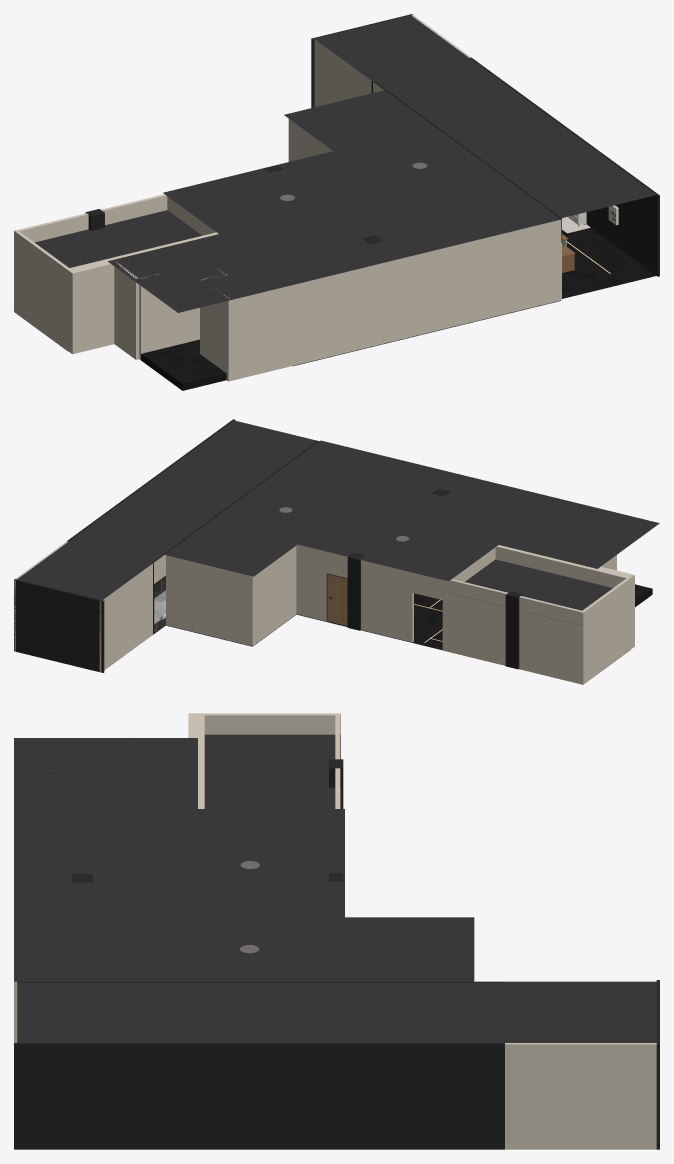
The model's file is office-mvp1-webp.glb.
The picture shows the model from 3 angles, top to bottom: view 1: azimuth 30°, elevation 25°; view 2: azimuth 150°, elevation 25°; view 3: azimuth 270°, elevation 25°; orthographic projection. The views are drawn at different scales.
Visible parts, largest first — view 1: MG_Office_M_Ceiling, MG_Office_M_SM_Wall_Cream, MG_WestRoom_M_SM_Wall_Cream, MG_MeetingWest_M_Ceiling, MG_Office_M_Floor, MG_Lounge_M_Wall, MG_Function_M_SM_Wall_Cream, MG_WestRoom_M_Floor, MG_Lounge_M_SM_Wall_Cream, MG_MeetingWest_M_SM_Wall_Cream; view 2: MG_Office_M_Ceiling, MG_Office_M_SM_Wall_Cream, MG_Function_M_SM_Wall_Dark, MG_Function_M_SM_Wall_Cream, MG_MeetingWest_M_Ceiling, MG_Office_M_Floor, MG_Office_M_Wall, MG_MeetingWest_M_Wall, MG_Office_ODesk_Oak, MG_Lounge_M_SM_Wall_Cream, MG_MeetingWest_M_SM_Wall_Cream, MG_Lounge_M_Glass (+1 smaller); view 3: MG_Office_M_Ceiling, MG_Lounge_M_Wall, MG_Function_M_SM_Wall_Cream, MG_MeetingWest_M_Ceiling, MG_Office_M_SM_Wall_Cream, MG_Lounge_M_SM_Wall_Cream, MG_Function_M_SM_Wall_Dark.
Boxes of the visible parts, box(x1,y1,x2,y2) form: MG_Office_M_Ceiling: box(108, 15, 655, 312); MG_Office_M_SM_Wall_Cream: box(14, 119, 561, 381); MG_WestRoom_M_SM_Wall_Cream: box(114, 261, 229, 372); MG_MeetingWest_M_Ceiling: box(35, 210, 201, 267); MG_Office_M_Floor: box(293, 228, 655, 366); MG_Lounge_M_Wall: box(470, 57, 659, 276); MG_Function_M_SM_Wall_Cream: box(314, 15, 471, 106); MG_WestRoom_M_Floor: box(141, 339, 226, 390); MG_Lounge_M_SM_Wall_Cream: box(373, 81, 561, 298); MG_MeetingWest_M_SM_Wall_Cream: box(167, 196, 215, 235); MG_Office_M_Ceiling: box(17, 420, 659, 600); MG_Office_M_SM_Wall_Cream: box(166, 544, 634, 684); MG_Function_M_SM_Wall_Dark: box(14, 579, 104, 672); MG_Function_M_SM_Wall_Cream: box(14, 541, 152, 672); MG_MeetingWest_M_Ceiling: box(450, 559, 612, 624); MG_Office_M_Floor: box(154, 581, 444, 650); MG_Office_M_Wall: box(347, 488, 450, 630); MG_MeetingWest_M_Wall: box(505, 591, 522, 669); MG_Office_ODesk_Oak: box(328, 575, 347, 625); MG_Lounge_M_SM_Wall_Cream: box(153, 441, 319, 583); MG_MeetingWest_M_SM_Wall_Cream: box(446, 547, 495, 601); MG_Lounge_M_Glass: box(155, 577, 165, 631); MG_Office_M_Ceiling: box(14, 738, 656, 1042); MG_Lounge_M_Wall: box(14, 1043, 504, 1149); MG_Function_M_SM_Wall_Cream: box(505, 1043, 656, 1149); MG_MeetingWest_M_Ceiling: box(204, 734, 340, 808); MG_Office_M_SM_Wall_Cream: box(14, 713, 340, 1042); MG_Lounge_M_SM_Wall_Cream: box(17, 981, 504, 982); MG_Function_M_SM_Wall_Dark: box(656, 980, 659, 1149).
Bounding box in the file's own units: 24.25 × 3.62 × 20.
209 materials, 30 textured.
